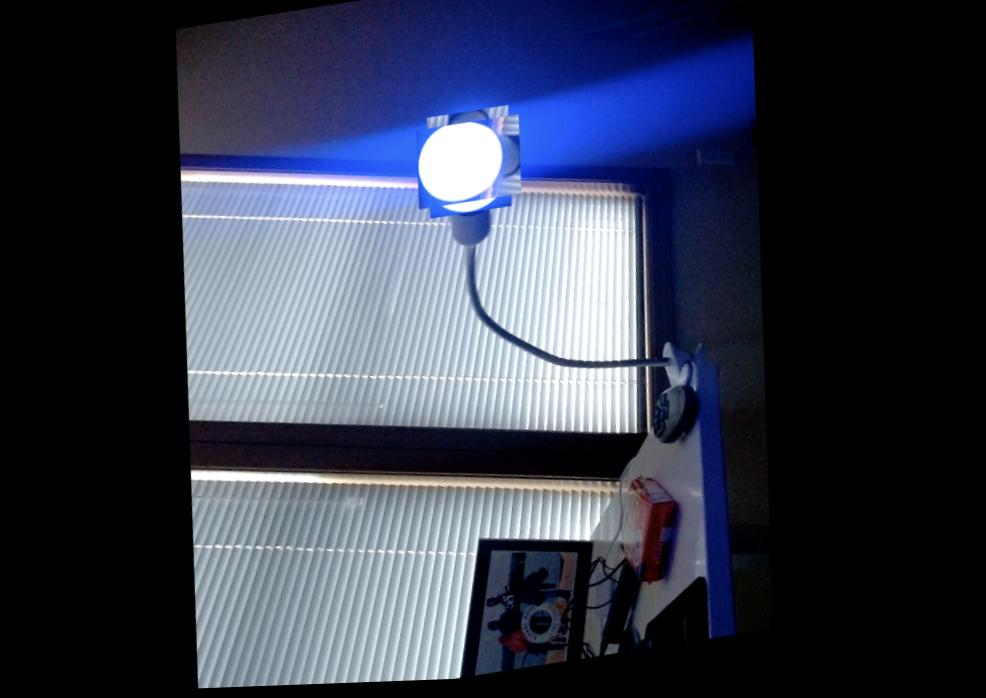TubeLight: (417, 113, 526, 218)
